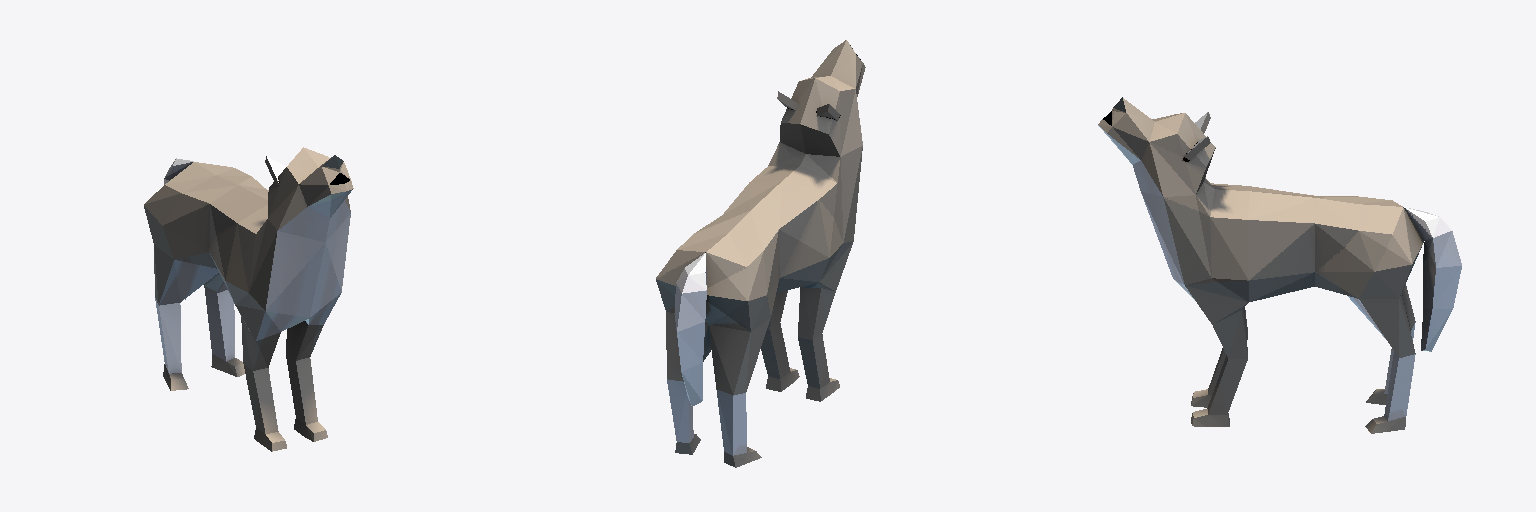
3 views of the same model, side by side, from view 1: azimuth 30°, elevation 25°; view 2: azimuth 150°, elevation 25°; view 3: azimuth 270°, elevation 25° (orthographic).
Visible parts, largest first — view 1: wolf; view 2: wolf; view 3: wolf.
Part boxes in pixels (x1,y1,x2,y2): wolf: (144, 144, 353, 451); wolf: (656, 40, 865, 467); wolf: (1098, 97, 1461, 433).
Size of the model in its own units: 0.5176 by 1.69 by 1.76.
1 materials, 1 textured.